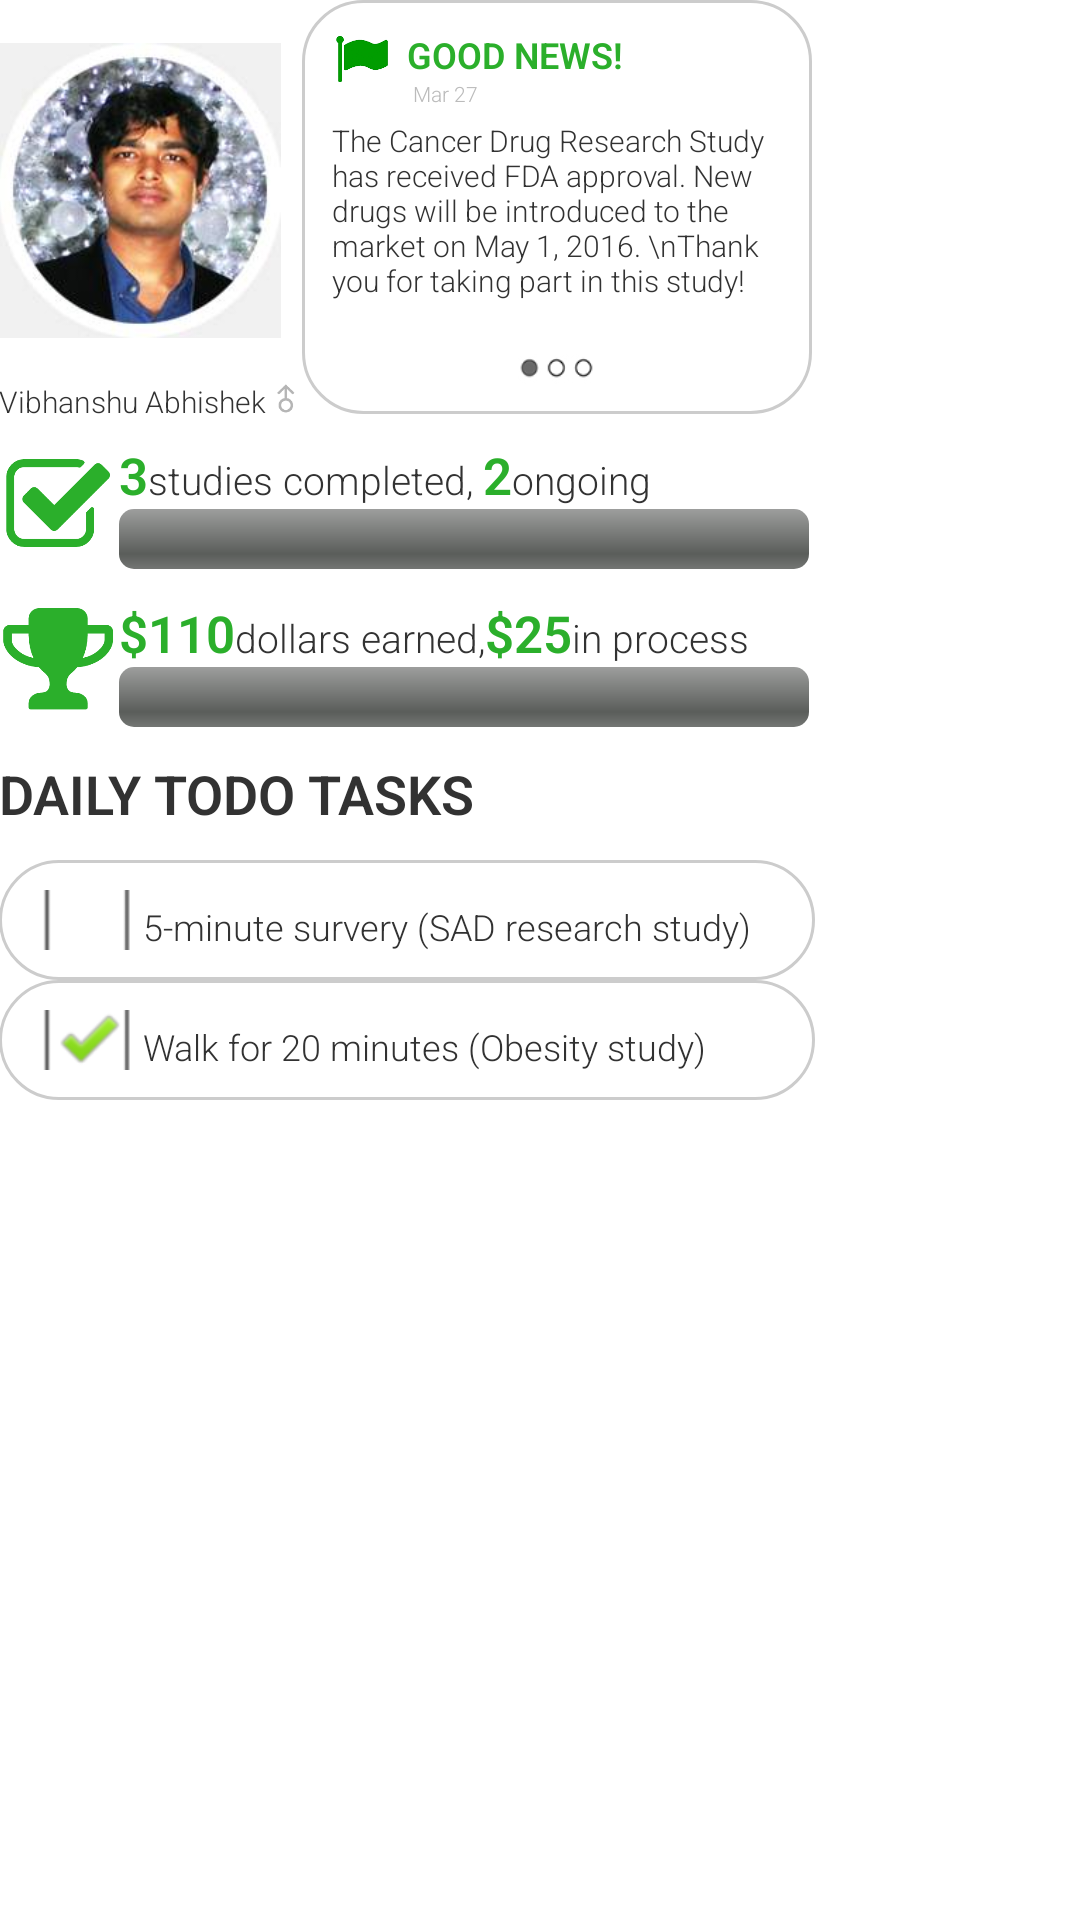

Where to tap for icons on this 1080 × 1920 app screen, as (x,y):
checkbox: (58,503)
circle: (556,368)
cup: (58,659)
flag: (362,59)
male: (285,399)
